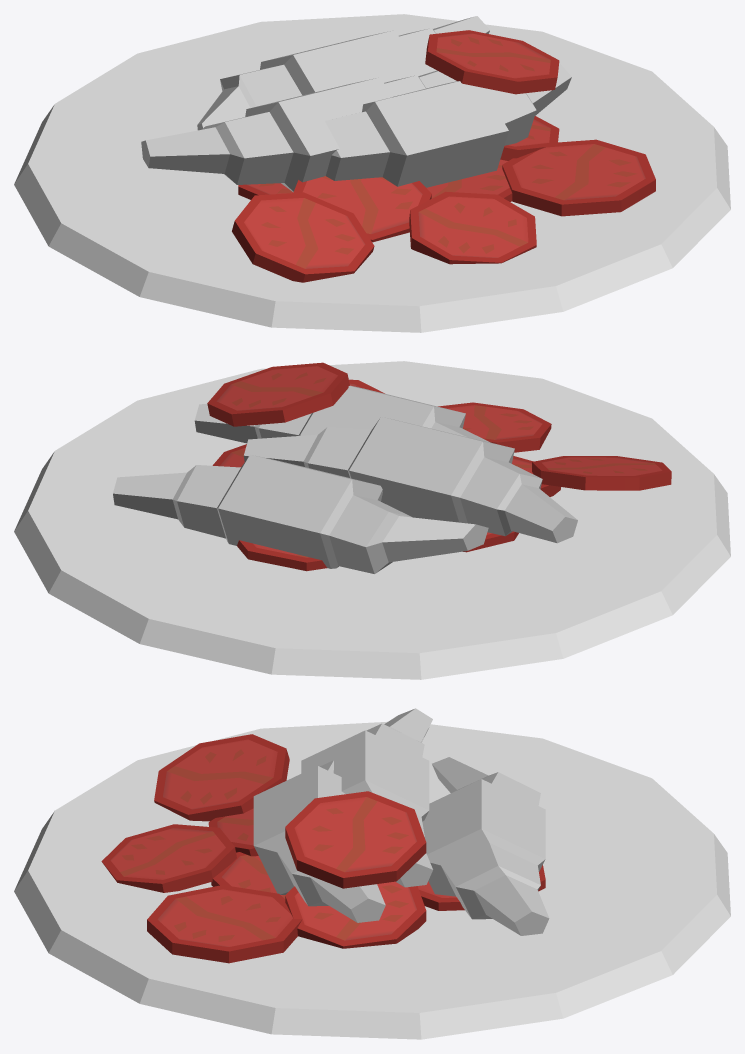
The model's file is open-1.fbx.
The picture shows the model from 3 angles, top to bottom: view 1: azimuth 30°, elevation 25°; view 2: azimuth 150°, elevation 25°; view 3: azimuth 270°, elevation 25°; orthographic projection.
Visible parts, largest first — view 1: Circle, SM_Props_Interior_SuperMarket_Item_Food_Croissant, SM_Props_Interior_SuperMarket_Item_Food_Croissant.002, SM_Props_Interior_SuperMarket_Item_Food_Croissant.001, SM_Props_Interior_SuperMarket_Item_Food_Tomato.005, SM_Props_Interior_SuperMarket_Item_Food_Tomato.001, SM_Props_Interior_SuperMarket_Item_Food_Tomato, SM_Props_Interior_SuperMarket_Item_Food_Tomato.004, SM_Props_Interior_SuperMarket_Item_Food_Tomato.002; view 2: Circle, SM_Props_Interior_SuperMarket_Item_Food_Croissant.001, SM_Props_Interior_SuperMarket_Item_Food_Croissant.002, SM_Props_Interior_SuperMarket_Item_Food_Croissant, SM_Props_Interior_SuperMarket_Item_Food_Tomato.002, SM_Props_Interior_SuperMarket_Item_Food_Tomato.005, SM_Props_Interior_SuperMarket_Item_Food_Tomato.004, SM_Props_Interior_SuperMarket_Item_Food_Tomato; view 3: Circle, SM_Props_Interior_SuperMarket_Item_Food_Croissant.001, SM_Props_Interior_SuperMarket_Item_Food_Tomato.002, SM_Props_Interior_SuperMarket_Item_Food_Tomato.001, SM_Props_Interior_SuperMarket_Item_Food_Tomato, SM_Props_Interior_SuperMarket_Item_Food_Tomato.005, SM_Props_Interior_SuperMarket_Item_Food_Croissant.002, SM_Props_Interior_SuperMarket_Item_Food_Croissant, SM_Props_Interior_SuperMarket_Item_Food_Tomato.004.
Boxes of the visible parts, bbox=[...] form: Circle: bbox=[14, 14, 730, 332]; SM_Props_Interior_SuperMarket_Item_Food_Croissant: bbox=[325, 63, 571, 187]; SM_Props_Interior_SuperMarket_Item_Food_Croissant.002: bbox=[141, 70, 456, 192]; SM_Props_Interior_SuperMarket_Item_Food_Croissant.001: bbox=[197, 16, 489, 130]; SM_Props_Interior_SuperMarket_Item_Food_Tomato.005: bbox=[232, 192, 374, 282]; SM_Props_Interior_SuperMarket_Item_Food_Tomato.001: bbox=[502, 139, 655, 216]; SM_Props_Interior_SuperMarket_Item_Food_Tomato: bbox=[238, 116, 559, 242]; SM_Props_Interior_SuperMarket_Item_Food_Tomato.004: bbox=[409, 191, 536, 264]; SM_Props_Interior_SuperMarket_Item_Food_Tomato.002: bbox=[425, 30, 559, 94]; Circle: bbox=[14, 361, 730, 679]; SM_Props_Interior_SuperMarket_Item_Food_Croissant.001: bbox=[113, 454, 488, 573]; SM_Props_Interior_SuperMarket_Item_Food_Croissant.002: bbox=[243, 417, 577, 543]; SM_Props_Interior_SuperMarket_Item_Food_Croissant: bbox=[194, 385, 490, 443]; SM_Props_Interior_SuperMarket_Item_Food_Tomato.002: bbox=[207, 362, 349, 426]; SM_Props_Interior_SuperMarket_Item_Food_Tomato.005: bbox=[532, 456, 671, 490]; SM_Props_Interior_SuperMarket_Item_Food_Tomato.004: bbox=[438, 402, 551, 452]; SM_Props_Interior_SuperMarket_Item_Food_Tomato: bbox=[212, 444, 560, 571]; Circle: bbox=[14, 721, 730, 1039]; SM_Props_Interior_SuperMarket_Item_Food_Croissant.001: bbox=[422, 757, 549, 935]; SM_Props_Interior_SuperMarket_Item_Food_Tomato.002: bbox=[285, 791, 426, 888]; SM_Props_Interior_SuperMarket_Item_Food_Tomato.001: bbox=[147, 885, 302, 963]; SM_Props_Interior_SuperMarket_Item_Food_Tomato: bbox=[208, 808, 545, 948]; SM_Props_Interior_SuperMarket_Item_Food_Tomato.005: bbox=[154, 734, 289, 821]; SM_Props_Interior_SuperMarket_Item_Food_Croissant.002: bbox=[301, 708, 432, 887]; SM_Props_Interior_SuperMarket_Item_Food_Croissant: bbox=[253, 760, 385, 922]; SM_Props_Interior_SuperMarket_Item_Food_Tomato.004: bbox=[101, 824, 236, 892].
Bounding box in the file's own units: 38.69 × 7.16 × 38.57.
